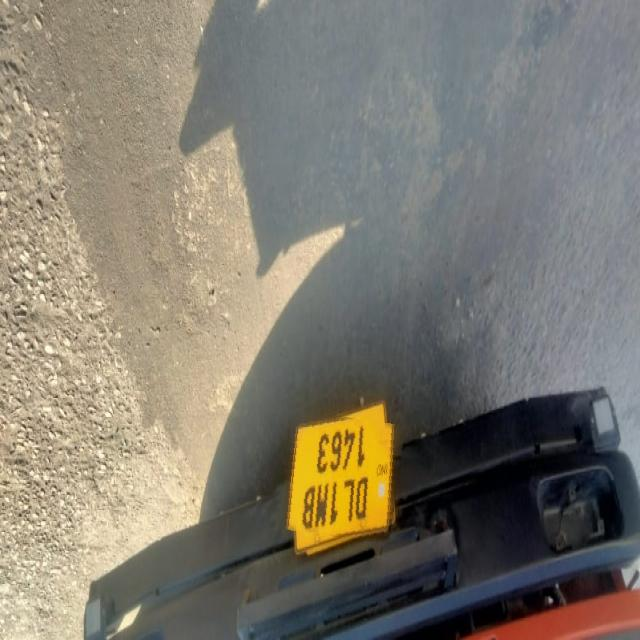License-plate: (273, 413, 402, 540)
